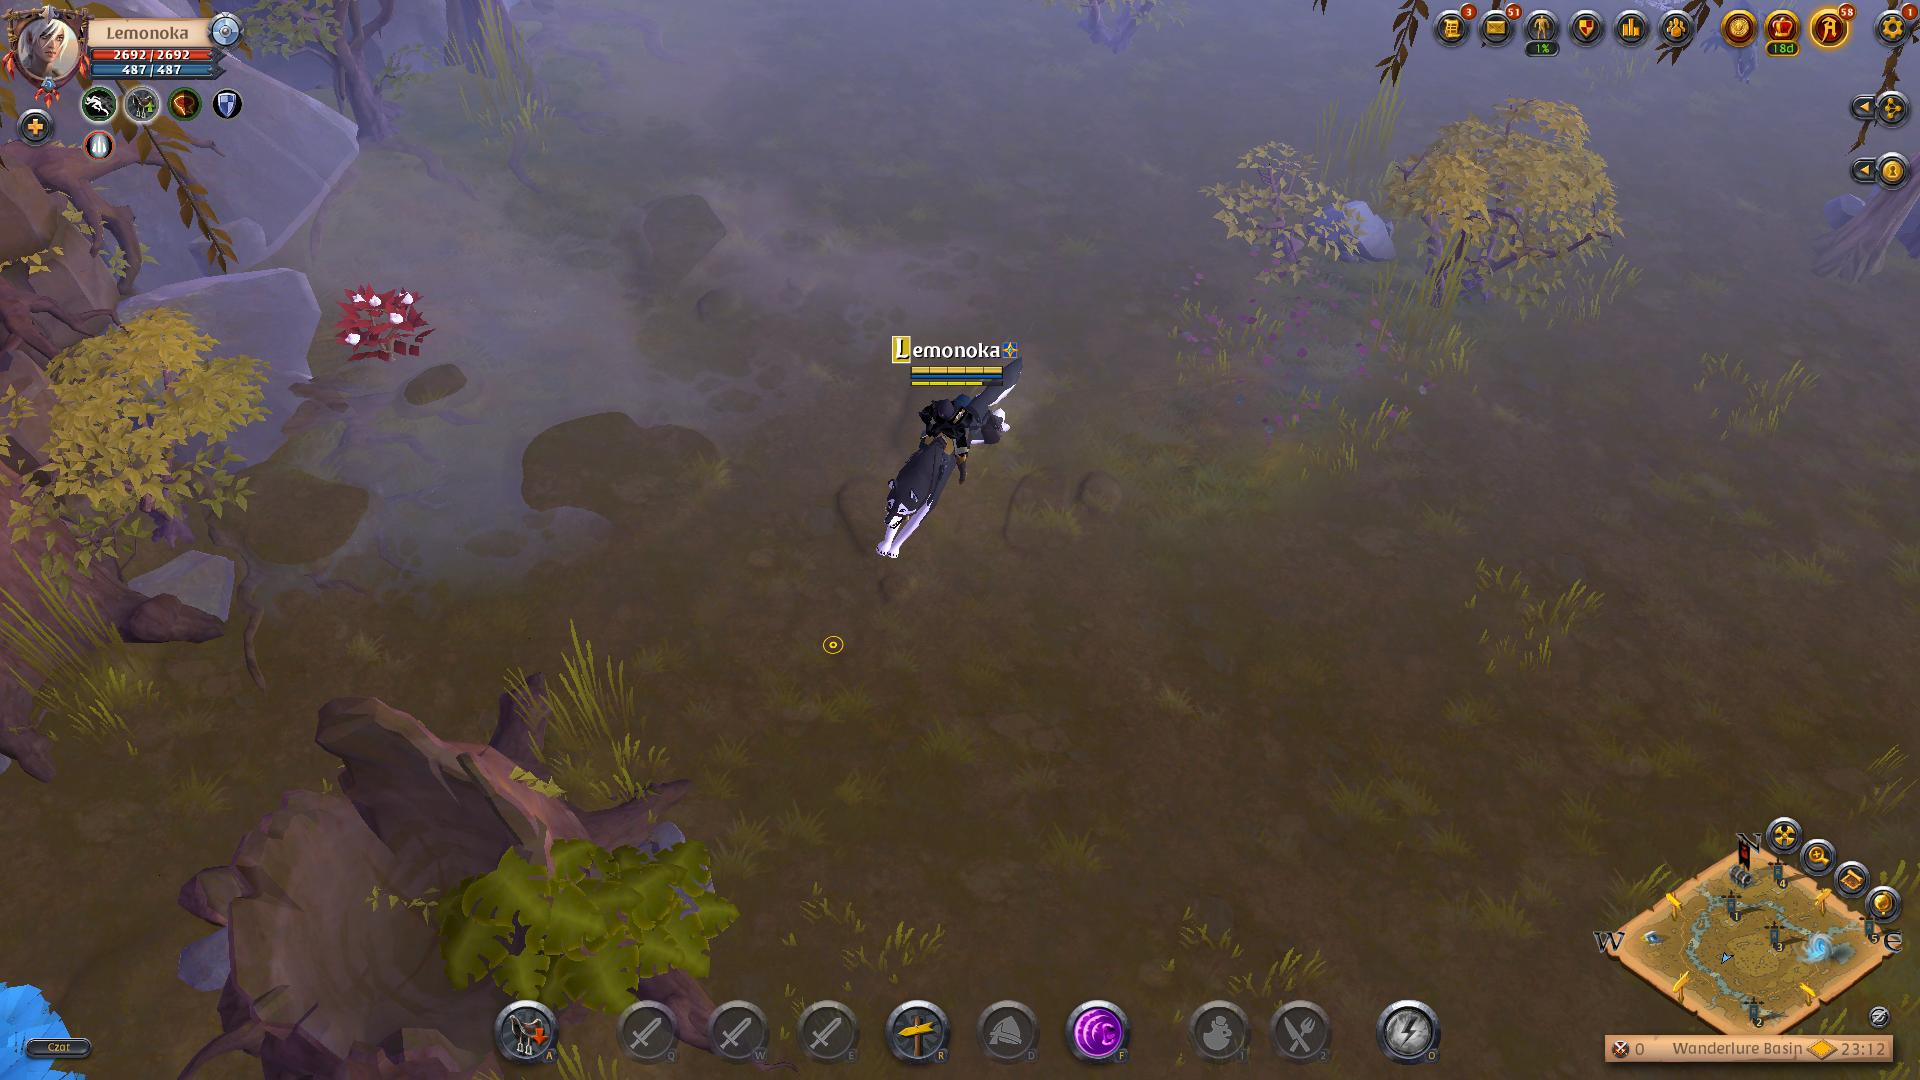fiber tier 5: (332, 270, 430, 364)
